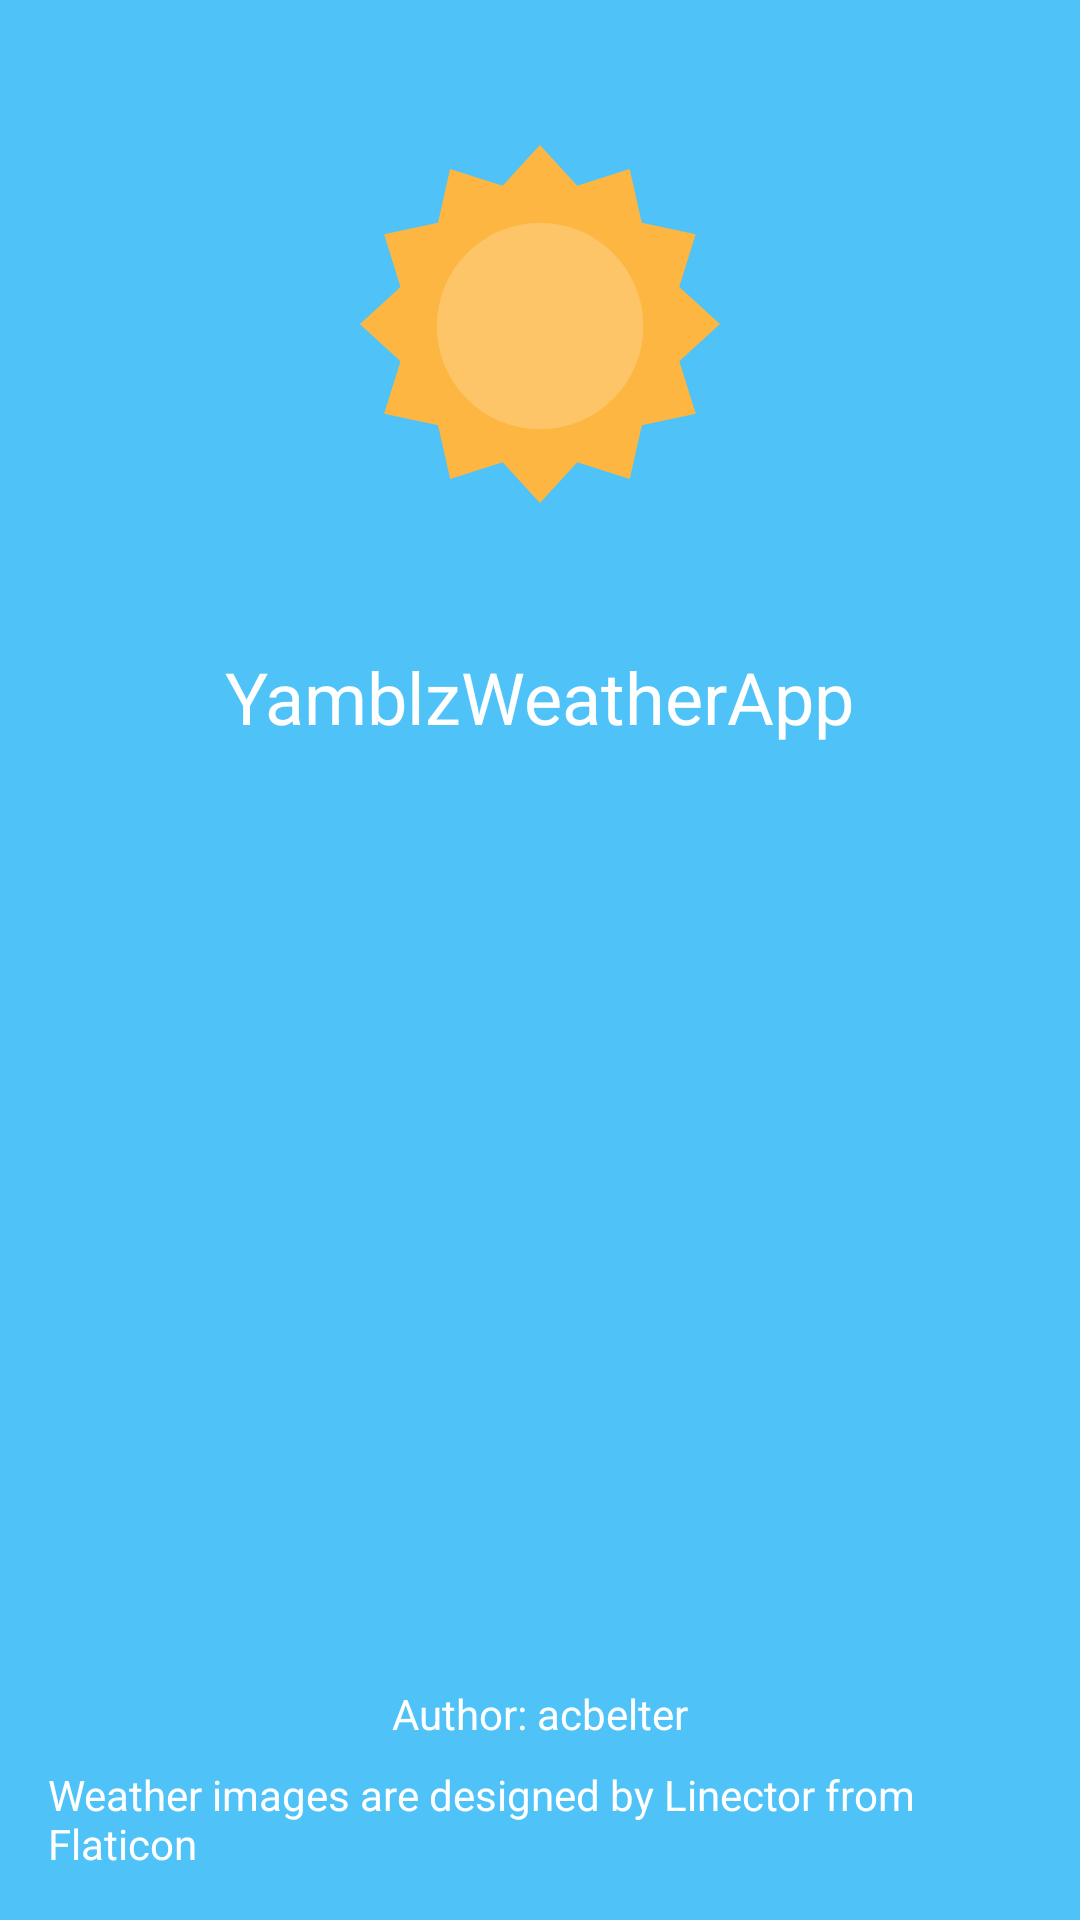

Icons on this 1080 x 1920 Android screen, each with its box as bbox(x1, y1, x2, y2):
sun: bbox(360, 145, 720, 503)
